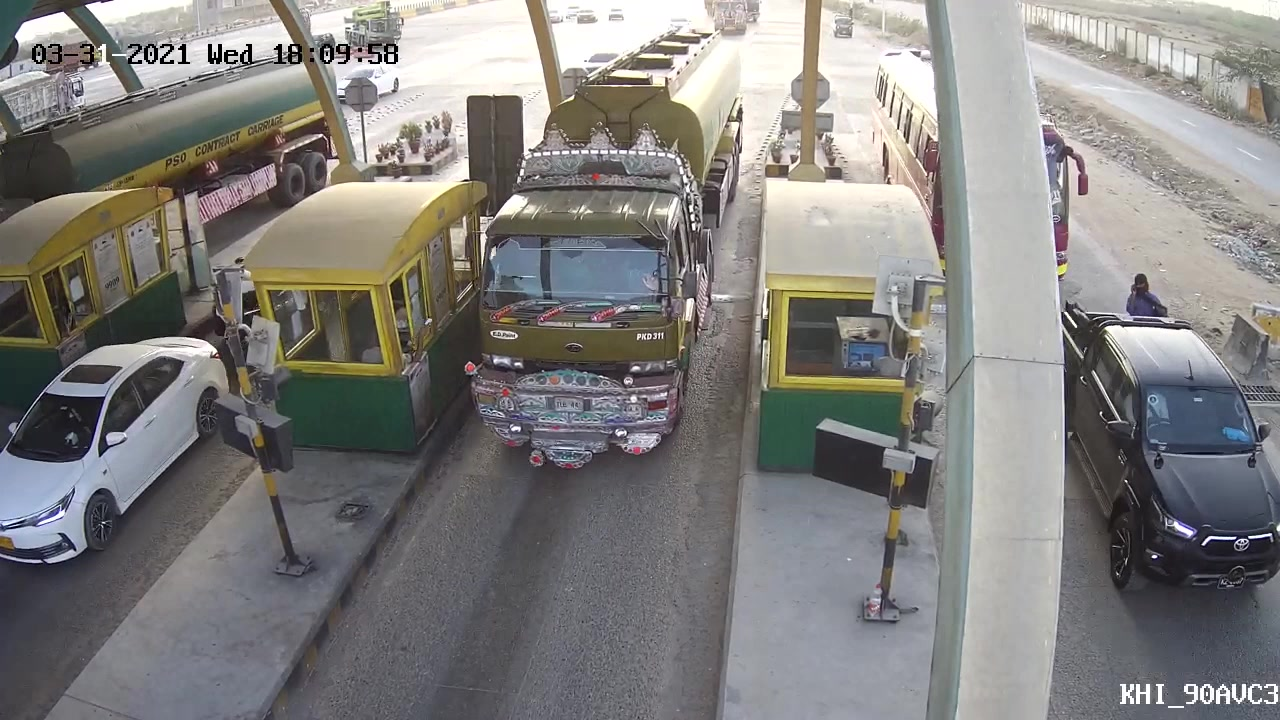F6: (438, 98, 709, 475)
